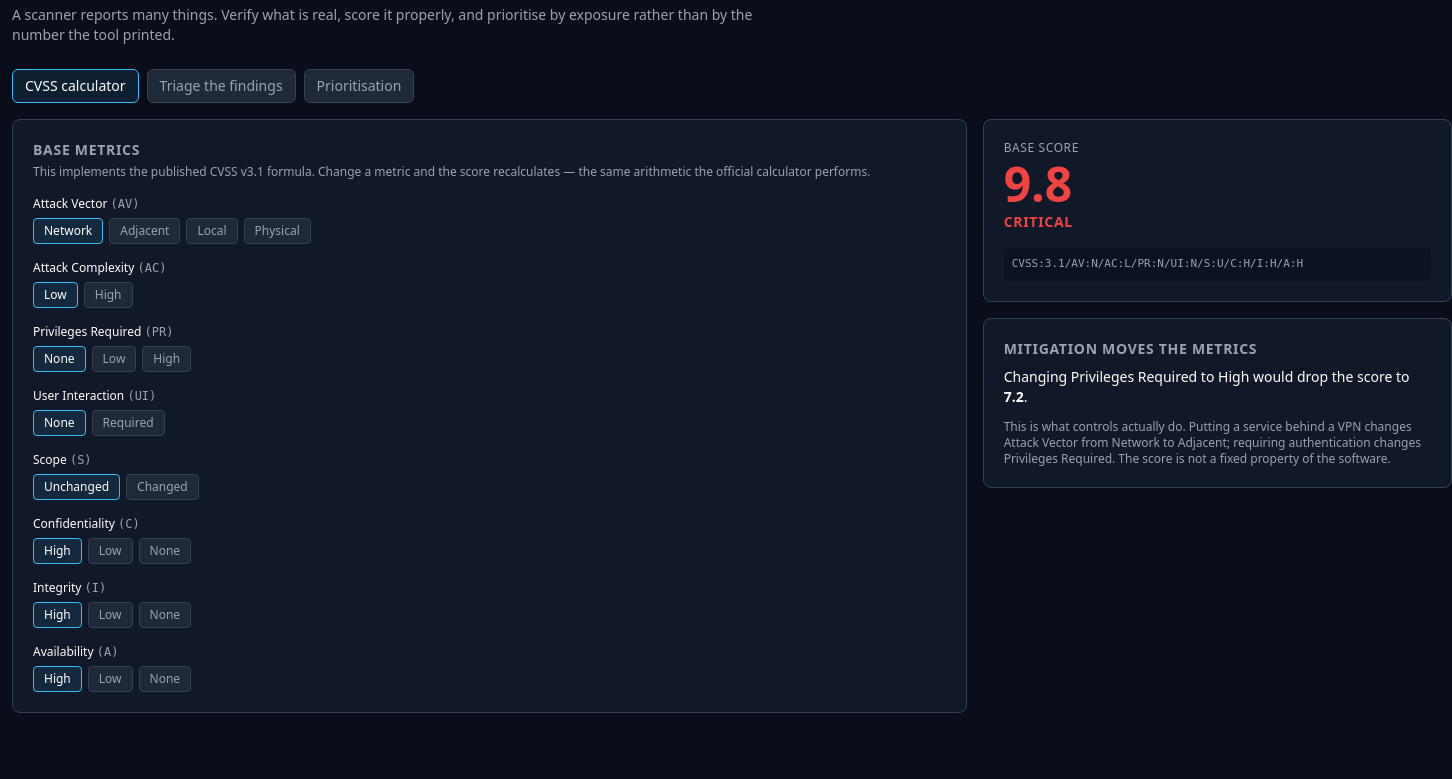
VulnManagementView › blocks verdict submission until every finding is triaged
The image size is (1452, 779).
Click the button "Triage the findings": (221, 86) [147,69,296,103]
(page scrolled)
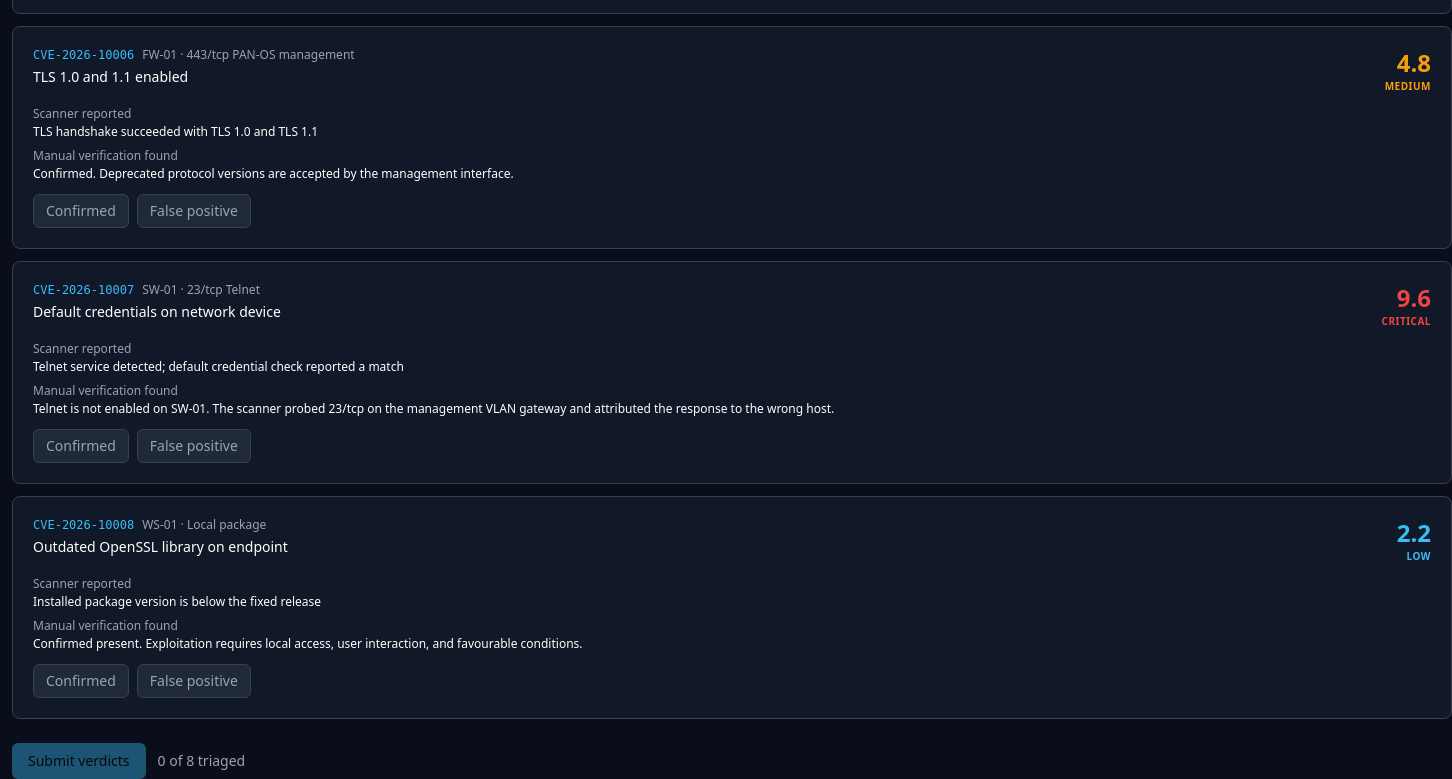
Expected: the button "Submit verdicts" is disabled, [12,743,146,778]
